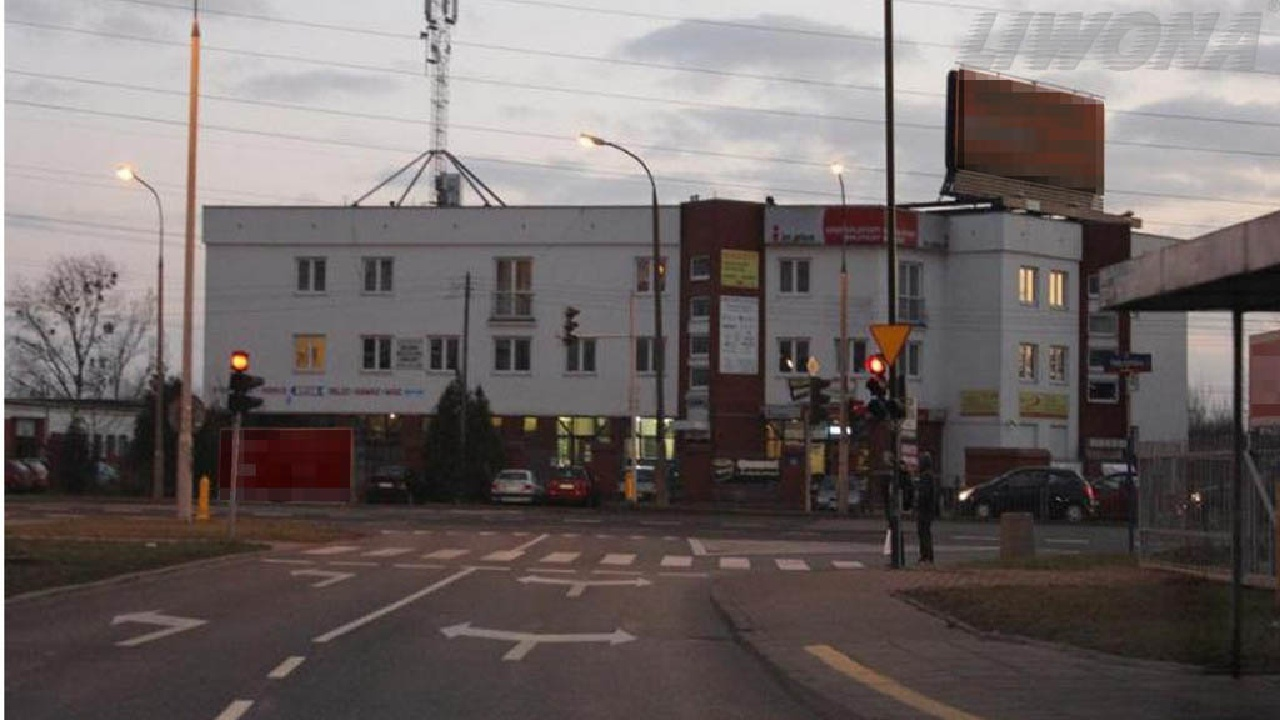A7: (869, 321, 913, 366)
Red: (867, 356, 887, 421), (232, 350, 248, 413)
